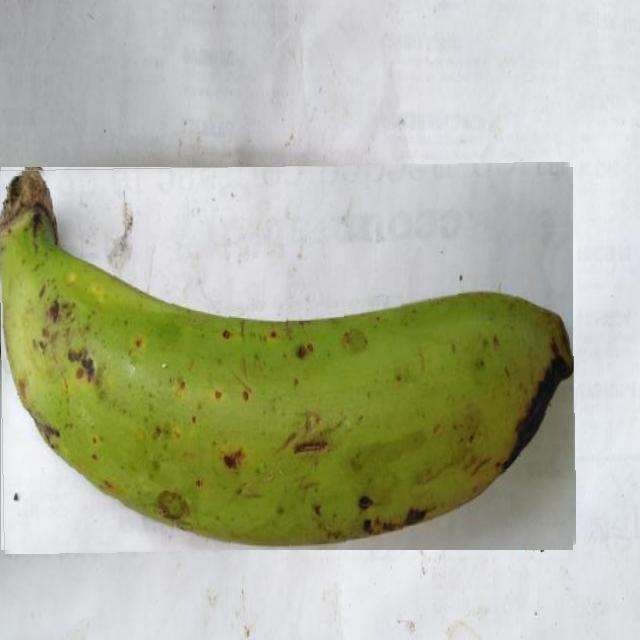Verde: (0, 163, 574, 552)
